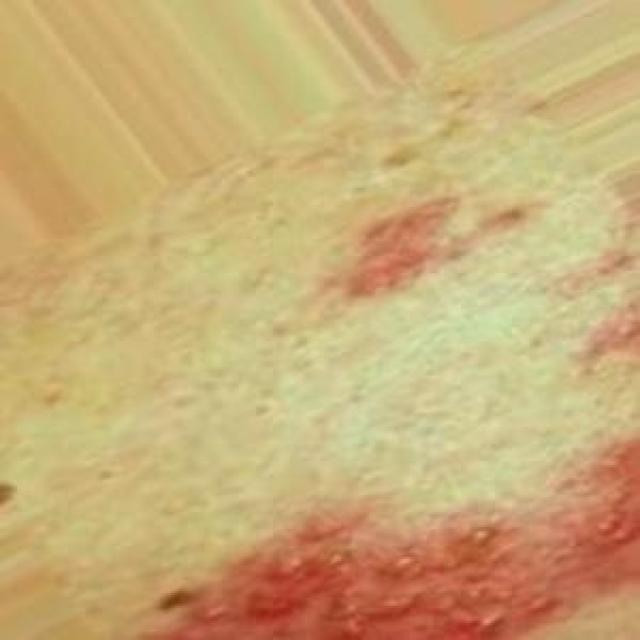Shingles: (173, 434, 640, 640), (346, 198, 504, 305)
